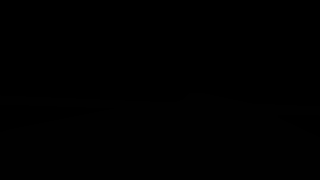go_ahead: (281, 25, 319, 57)
